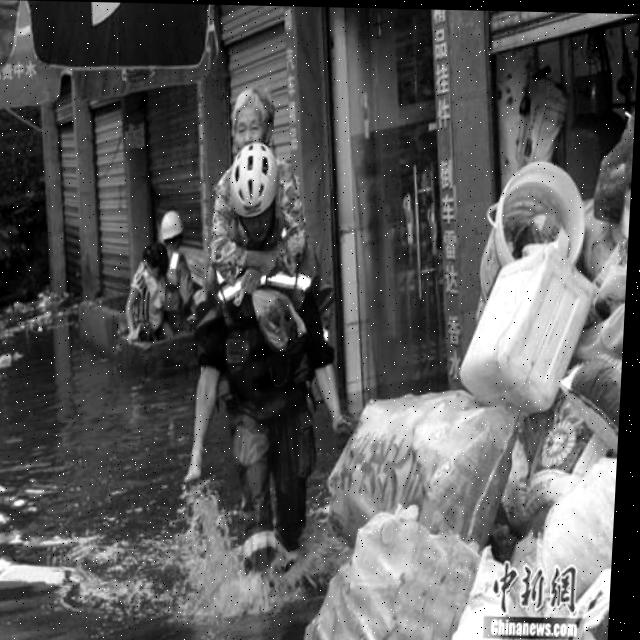civilian: (184, 83, 374, 491), (121, 240, 175, 359)
rescuer: (193, 143, 328, 600), (154, 207, 207, 344)
